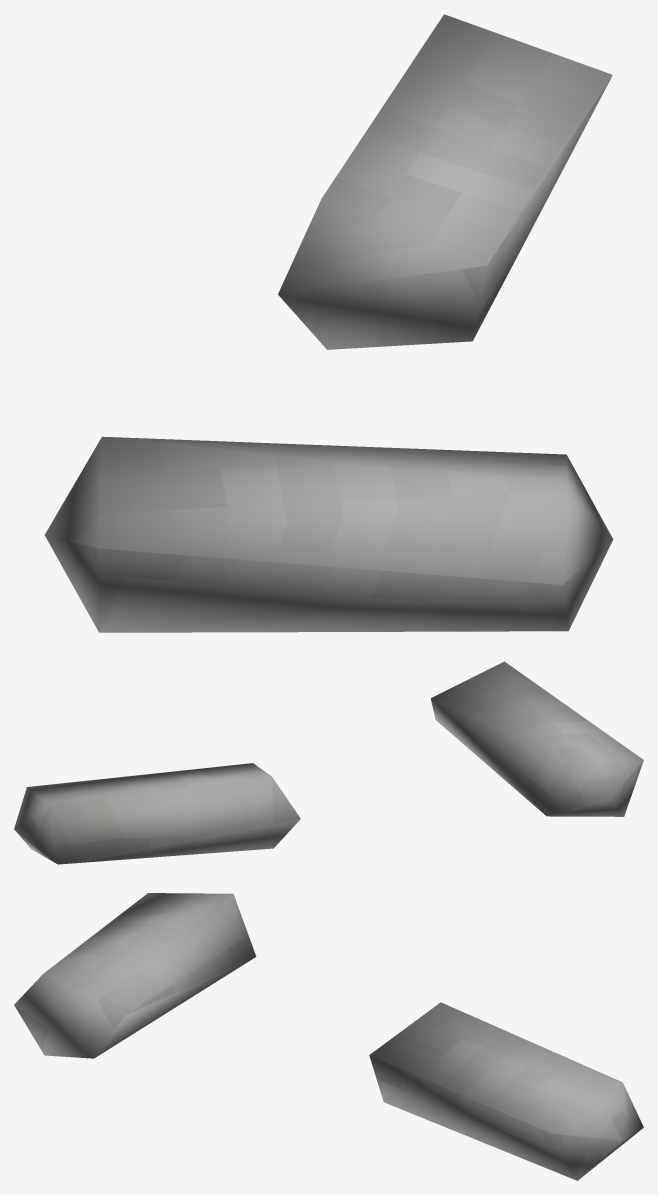
Rendered from pills_1.glb.
3 renders of one model, top to bottom at view 1: azimuth 30°, elevation 25°; view 2: azimuth 150°, elevation 25°; view 3: azimuth 270°, elevation 25°, orthographic. The views are drawn at different scales.
Parts seen in each view (by area): view 1: pills_1; view 2: pills_1; view 3: pills_1.
Boxes of the visible parts, <box> form: pills_1: <box>45,14,613,632</box>; pills_1: <box>14,661,643,864</box>; pills_1: <box>14,893,643,1180</box>.
Bounding box in the file's own units: 0.0642 × 0.0104 × 0.0717.
1 material, 1 textured.
